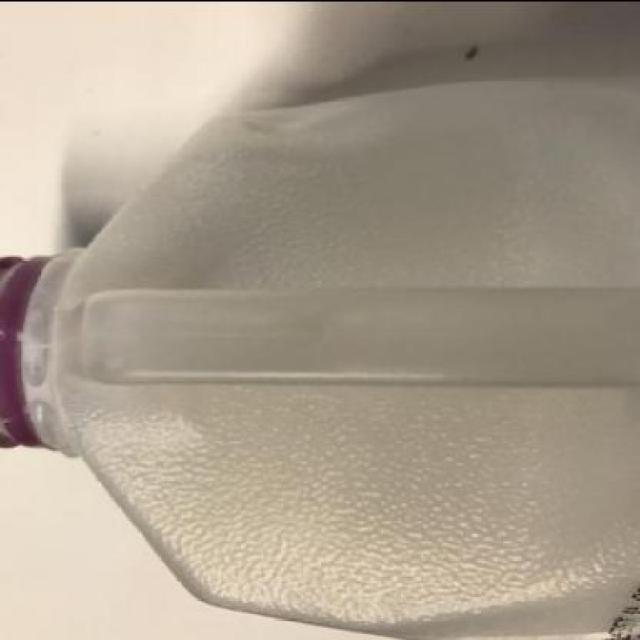PLASTIC: (0, 77, 640, 638), (0, 254, 45, 448)
